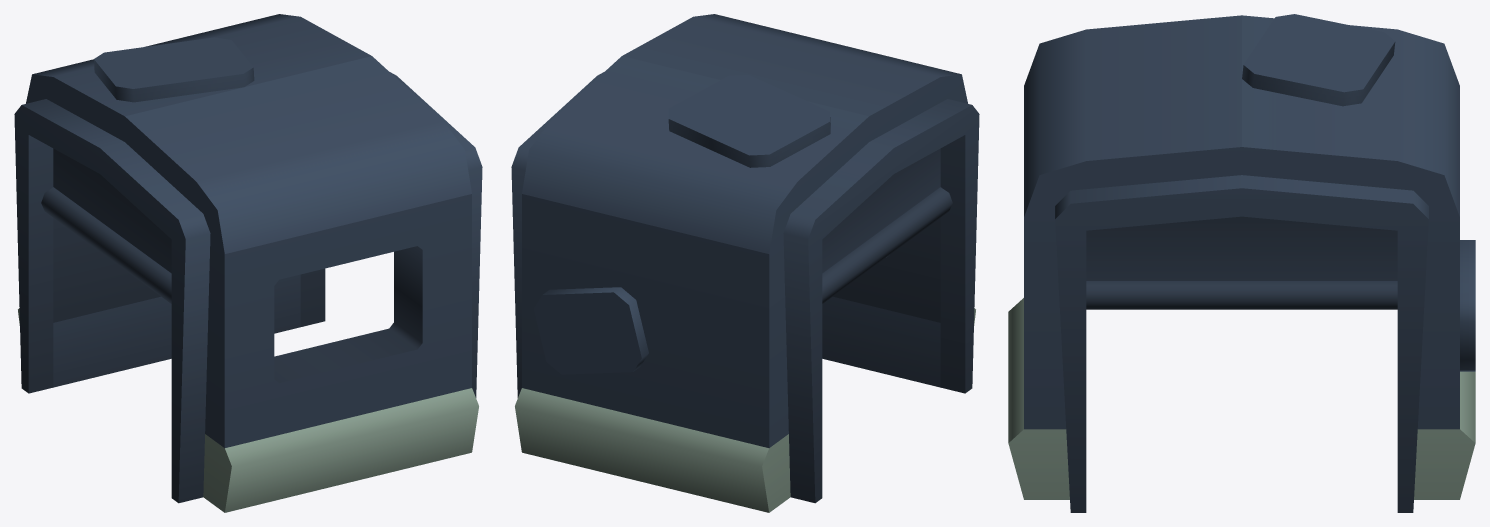
The model's file is factory-kit__machine.glb.
The picture shows the model from 3 angles, left to right: view 1: azimuth 30°, elevation 25°; view 2: azimuth 150°, elevation 25°; view 3: azimuth 270°, elevation 25°; orthographic projection. The views are drawn at different scales.
Parts seen in each view (by area): view 1: machine; view 2: machine; view 3: machine.
Boxes of the visible parts, box(x1,y1,x2,y2) form: machine: box(14, 14, 482, 512); machine: box(511, 14, 979, 512); machine: box(1008, 14, 1475, 512).
Bounding box in the file's own units: 5.08 × 5.5 × 6.35.
Materials: 1 (1 with a texture image).
